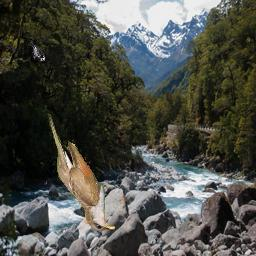Cuckoo: (46, 111, 116, 231)
Woodpecker: (31, 43, 46, 62)
